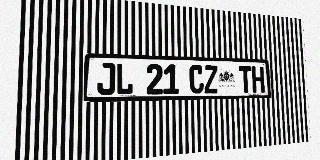1: (163, 64, 179, 94)
2: (146, 64, 163, 94)
C: (189, 65, 204, 94)
H: (251, 66, 265, 93)
J: (97, 63, 115, 95)
L: (116, 63, 133, 95)
T: (239, 66, 252, 93)
Z: (204, 65, 218, 93)
